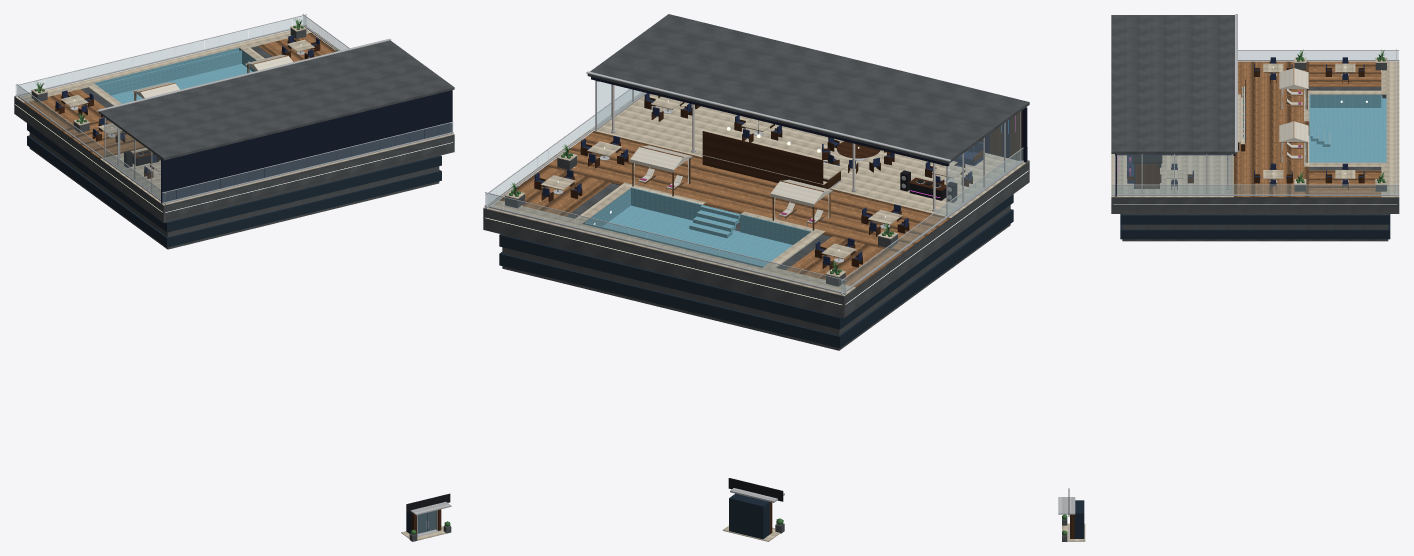
File: LM_ENV_SkyDining.glb
The picture shows the model from 3 angles, left to right: view 1: azimuth 30°, elevation 25°; view 2: azimuth 150°, elevation 25°; view 3: azimuth 270°, elevation 25°; orthographic projection. The views are drawn at different scales.
Visible parts, largest first — view 1: ceiling | Crown concrete, skydining | Lounge navy, skydining | Crown concrete, skydining | Balustrade glass, skydining | Crown curtain wall, skydining | Travertine, skydining | Brushed steel, skydining | Pool mosaic, skydining | Deck teak, skydining | Walnut joinery, skydining | Cabana canvas, skydining | Warm glow (+2 smaller); view 2: ceiling | Crown concrete, skydining | Travertine, skydining | Crown concrete, skydining | Deck teak, skydining | Crown curtain wall, skydining | Balustrade glass, skydining | Pool mosaic, skydining | Walnut joinery, skydining | Brushed steel, skydining | Cabana canvas, skydining | Upholstery navy, skydining | Dark metal (+4 smaller); view 3: ceiling | Crown concrete, skydining | Deck teak, skydining | Crown concrete, skydining | Travertine, skydining | Balustrade glass, skydining | Crown curtain wall, skydining | Pool mosaic, skydining | Brushed steel, skydining | Walnut joinery, skydining | Cabana canvas, skydining | Upholstery navy, skydining | Warm glow (+1 smaller).
Part boxes in pixels (bbox=[...]): ceiling | Crown concrete: bbox=[98, 40, 454, 160]; skydining | Lounge navy: bbox=[161, 90, 452, 203]; skydining | Crown concrete: bbox=[14, 28, 454, 541]; skydining | Balustrade glass: bbox=[16, 15, 452, 534]; skydining | Crown curtain wall: bbox=[27, 123, 441, 533]; skydining | Travertine: bbox=[14, 24, 454, 540]; skydining | Brushed steel: bbox=[15, 14, 453, 536]; skydining | Pool mosaic: bbox=[94, 48, 255, 105]; skydining | Deck teak: bbox=[24, 32, 339, 158]; skydining | Walnut joinery: bbox=[55, 39, 441, 534]; skydining | Cabana canvas: bbox=[132, 54, 292, 100]; skydining | Warm glow: bbox=[15, 29, 452, 212]; ceiling | Crown concrete: bbox=[587, 14, 1029, 163]; skydining | Travertine: bbox=[483, 92, 1029, 541]; skydining | Crown concrete: bbox=[483, 156, 1029, 533]; skydining | Deck teak: bbox=[495, 130, 950, 287]; skydining | Crown curtain wall: bbox=[499, 194, 1013, 539]; skydining | Balustrade glass: bbox=[485, 81, 1027, 292]; skydining | Pool mosaic: bbox=[584, 187, 821, 267]; skydining | Walnut joinery: bbox=[534, 96, 1022, 534]; skydining | Brushed steel: bbox=[484, 80, 1028, 502]; skydining | Cabana canvas: bbox=[630, 145, 832, 223]; skydining | Upholstery navy: bbox=[534, 93, 983, 265]; skydining | Dark metal: bbox=[703, 120, 957, 501]; ceiling | Crown concrete: bbox=[1111, 15, 1237, 153]; skydining | Deck teak: bbox=[1233, 61, 1381, 197]; skydining | Crown concrete: bbox=[1062, 63, 1399, 541]; skydining | Travertine: bbox=[1062, 57, 1399, 541]; skydining | Balustrade glass: bbox=[1112, 51, 1398, 194]; skydining | Crown curtain wall: bbox=[1074, 163, 1390, 538]; skydining | Pool mosaic: bbox=[1309, 94, 1386, 166]; skydining | Brushed steel: bbox=[1058, 49, 1399, 537]; skydining | Walnut joinery: bbox=[1070, 61, 1364, 538]; skydining | Cabana canvas: bbox=[1279, 68, 1308, 162]; skydining | Upholstery navy: bbox=[1127, 57, 1364, 186]; skydining | Warm glow: bbox=[1111, 61, 1399, 204].
Bounding box in the file's own units: 36.2 × 49.62 × 37.93.
22 materials, 10 textured.
